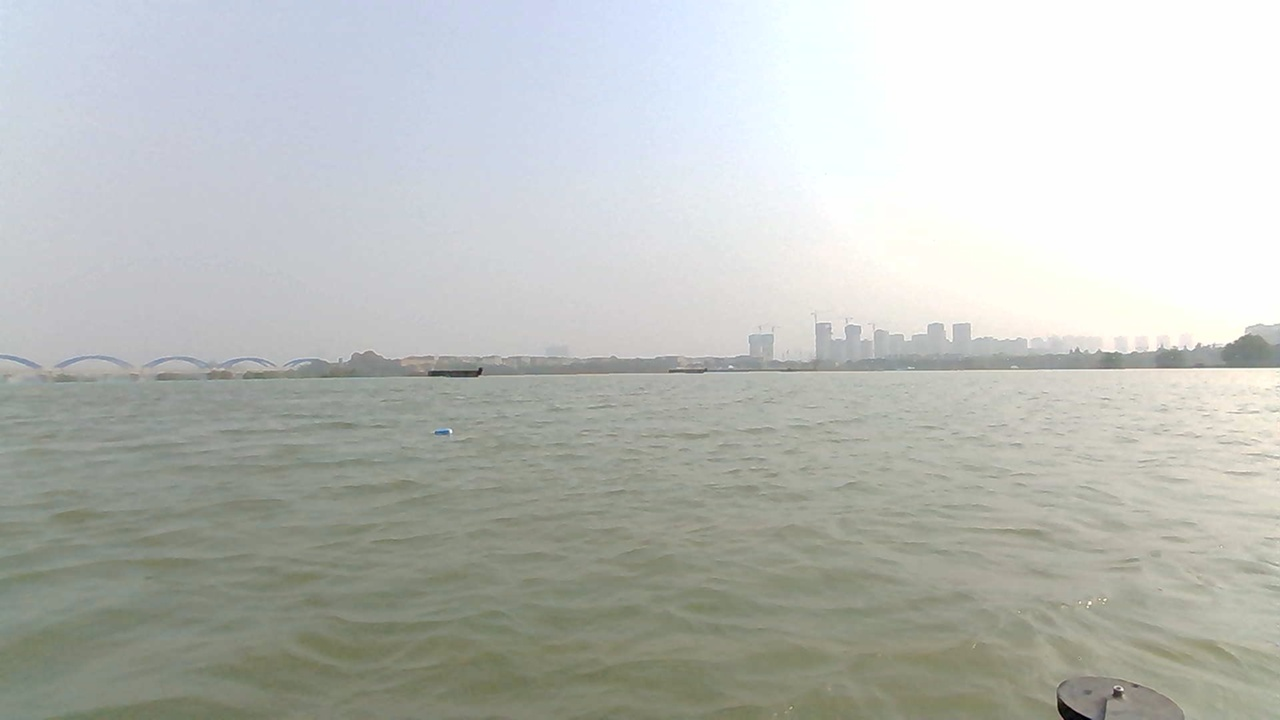bottle: (429, 426, 458, 440)
